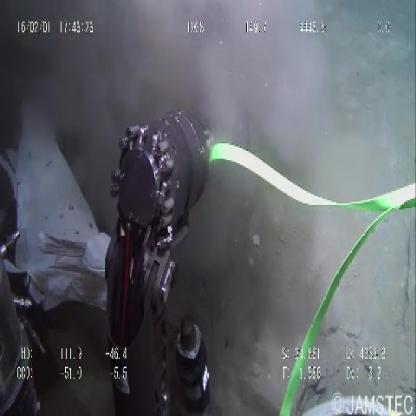Rov: (101, 95, 220, 416)
Rác: (4, 105, 115, 317)
